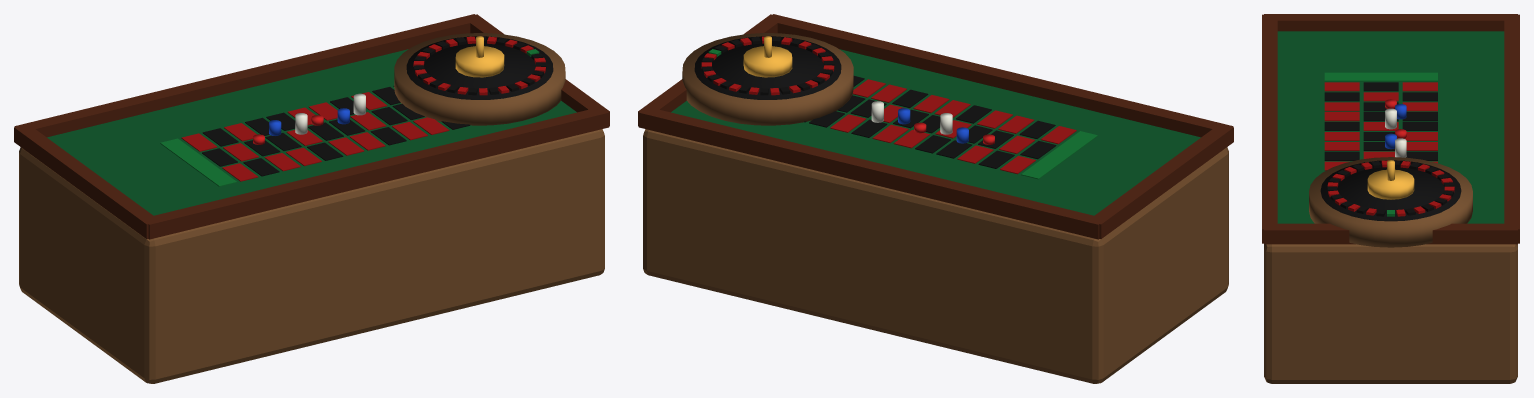
The model's file is roulette_table.glb.
3 views of the same model, side by side, from view 1: azimuth 30°, elevation 25°; view 2: azimuth 150°, elevation 25°; view 3: azimuth 270°, elevation 25° (orthographic). The views are drawn at different scales.
Visible parts, largest first — view 1: roulette_table; view 2: roulette_table; view 3: roulette_table.
Part boxes in pixels (bbox=[...]): roulette_table: bbox=[14, 14, 609, 383]; roulette_table: bbox=[638, 14, 1233, 383]; roulette_table: bbox=[1262, 14, 1519, 383].
Bounding box in the file's own units: 2.68 × 1.11 × 1.32.
Materials: 1 (1 with a texture image).
